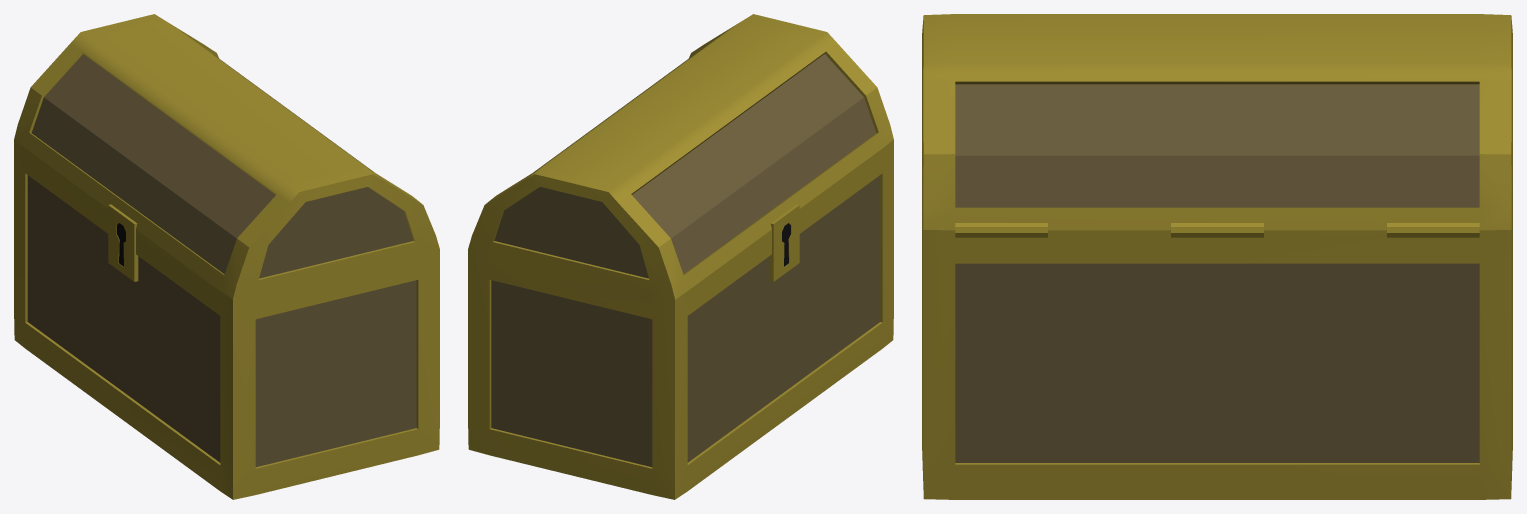
File: ItemChest.fbx
3 renders of one model, left to right at view 1: azimuth 30°, elevation 25°; view 2: azimuth 150°, elevation 25°; view 3: azimuth 270°, elevation 25°, orthographic. The views are drawn at different scales.
Visible parts, largest first — view 1: Chest; view 2: Chest; view 3: Chest.
Part boxes in pixels (x1,y1,x2,y2): Chest: (14,14,439,499); Chest: (468,14,893,499); Chest: (922,14,1512,499).
Size of the model in its own units: 88.91 by 117 by 158.
